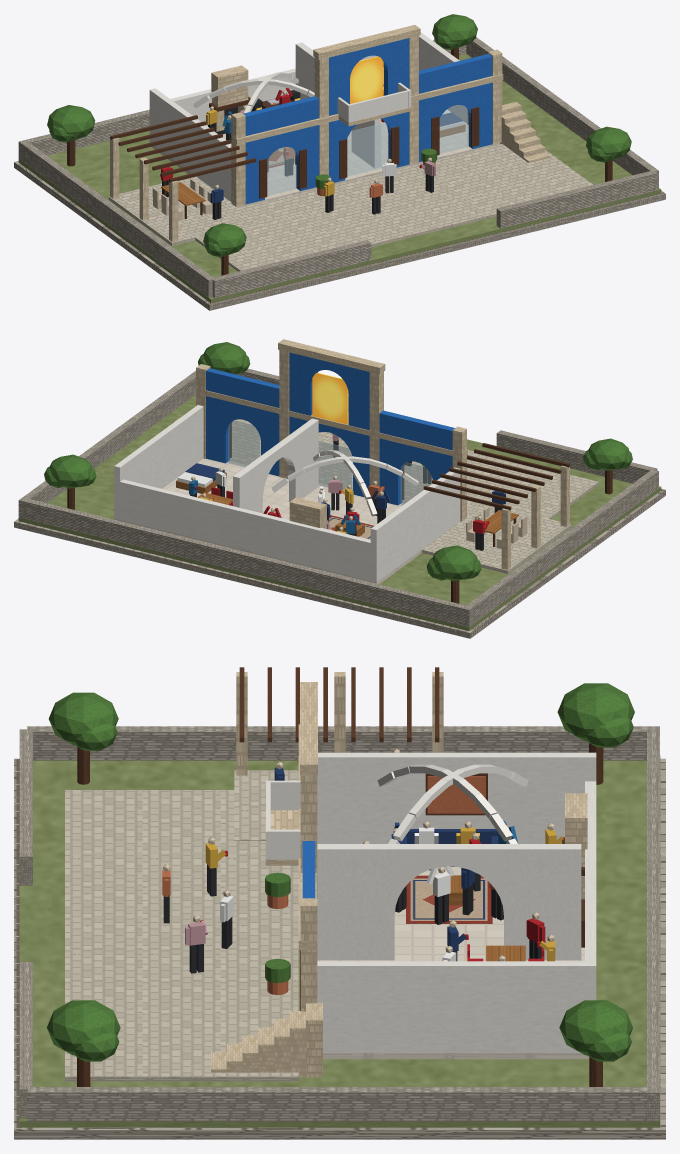
The model's file is villa6_casablu.glb.
The picture shows the model from 3 angles, top to bottom: view 1: azimuth 30°, elevation 25°; view 2: azimuth 150°, elevation 25°; view 3: azimuth 270°, elevation 25°; orthographic projection. The views are drawn at different scales.
Parts seen in each view (by area): view 1: Forecourt, Base_Terrain, Base_Trim, Wall_DryW, Wall_DryS2, Wall_DryS1, Wall_W_Cut, Wall_DryE, Side_Perg_Floor, Fac_Up_Center, Fac_Low_Left, Fac_Low_Right (+29 smaller); view 2: Wall_Back_Cut, Base_Terrain, Wall_DryN, Forecourt, Base_Trim, Wall_W_Cut, Wall_DryW, Wall_E_Cut, In_Salone_Arch, Wall_DryE, Fac_Up_Center, Fac_Low_Right (+26 smaller); view 3: Forecourt, Base_Terrain, Wall_E_Cut, Wall_DryE, In_Salone_Arch, Wall_W_Cut, Wall_DryW, Base_Trim, Wall_DryN, Villa_Floor, Olive_0_can0, Olive_3_can0 (+34 smaller).
Part boxes in pixels (x1,y1,x2,y2): Forecourt: [195, 144, 592, 270]; Base_Terrain: [18, 53, 661, 302]; Base_Trim: [14, 161, 665, 310]; Wall_DryW: [21, 141, 213, 297]; Wall_DryS2: [496, 170, 657, 228]; Wall_DryS1: [211, 240, 371, 298]; Wall_W_Cut: [149, 88, 231, 201]; Wall_DryE: [466, 37, 658, 188]; Side_Perg_Floor: [109, 176, 257, 242]; Fac_Up_Center: [329, 38, 409, 115]; Fac_Low_Left: [245, 125, 319, 204]; Fac_Low_Right: [419, 82, 492, 162]; Wall_Back_Cut: [114, 479, 379, 582]; Base_Terrain: [18, 395, 661, 630]; Wall_DryN: [18, 498, 472, 627]; Forecourt: [230, 419, 598, 518]; Base_Trim: [14, 489, 665, 638]; Wall_W_Cut: [370, 467, 460, 581]; Wall_DryW: [464, 470, 658, 624]; Wall_E_Cut: [114, 405, 203, 519]; In_Salone_Arch: [233, 418, 318, 513]; Wall_DryE: [21, 371, 195, 503]; Fac_Up_Center: [289, 352, 369, 430]; Fac_Low_Right: [206, 396, 279, 476]; Forecourt: [65, 790, 298, 1076]; Base_Terrain: [19, 755, 660, 1127]; Wall_E_Cut: [317, 961, 596, 1052]; Wall_DryE: [27, 1087, 652, 1121]; In_Salone_Arch: [317, 844, 581, 960]; Wall_W_Cut: [317, 752, 596, 843]; Wall_DryW: [27, 726, 652, 760]; Base_Trim: [14, 758, 665, 1139]; Wall_DryN: [647, 726, 659, 1121]; Villa_Floor: [317, 867, 584, 961]; Olive_0_can0: [557, 683, 634, 740]; Olive_3_can0: [47, 1000, 120, 1055].
Bounding box in the file's own units: 23.3 × 7.17 × 17.3.
21 materials, 21 textured.
